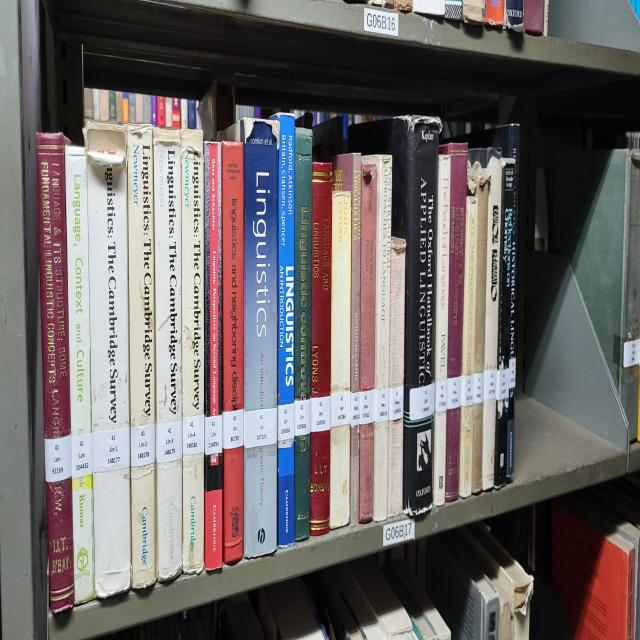Book: (349, 116, 441, 517), (85, 122, 131, 598), (36, 133, 75, 614), (244, 122, 279, 557), (65, 146, 95, 603), (128, 124, 156, 587), (154, 127, 182, 582), (469, 149, 502, 490), (332, 152, 361, 525), (181, 130, 204, 574), (440, 143, 468, 501), (221, 141, 244, 563), (369, 154, 392, 522), (310, 162, 332, 536), (204, 143, 222, 571), (278, 116, 295, 547), (330, 192, 351, 528), (294, 127, 311, 541), (359, 160, 378, 522), (494, 152, 514, 487), (432, 154, 451, 506), (471, 160, 490, 492), (459, 195, 478, 498), (388, 238, 406, 517), (506, 135, 519, 479)
Label: (92, 425, 130, 473), (244, 406, 278, 449), (45, 436, 71, 482), (130, 422, 155, 468), (156, 419, 182, 463), (409, 381, 435, 422), (71, 433, 92, 479), (182, 414, 204, 455), (222, 409, 244, 449), (310, 395, 331, 433), (204, 414, 222, 455), (331, 390, 350, 427), (278, 403, 294, 444), (294, 398, 310, 436), (389, 384, 404, 422), (360, 390, 375, 425), (374, 390, 389, 422), (448, 376, 461, 409), (461, 373, 474, 406), (435, 379, 448, 411), (496, 368, 509, 400), (484, 368, 496, 400), (350, 392, 360, 427), (474, 373, 484, 403), (509, 357, 516, 390)
